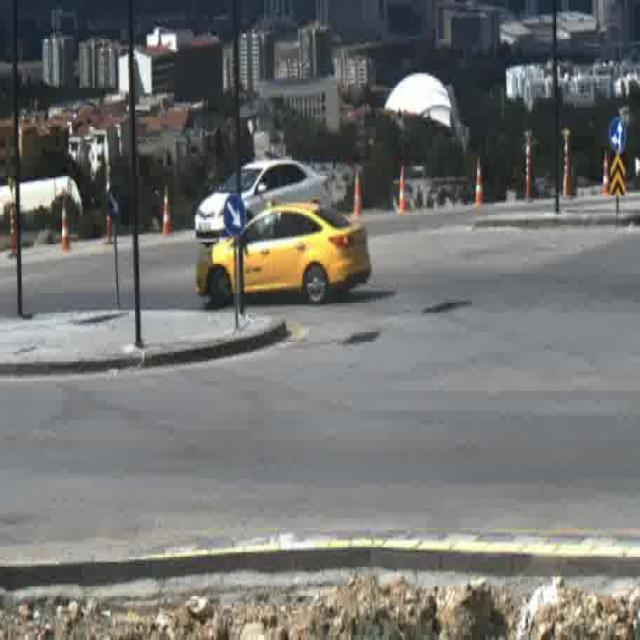Car: (197, 202, 369, 309), (196, 156, 330, 247)
